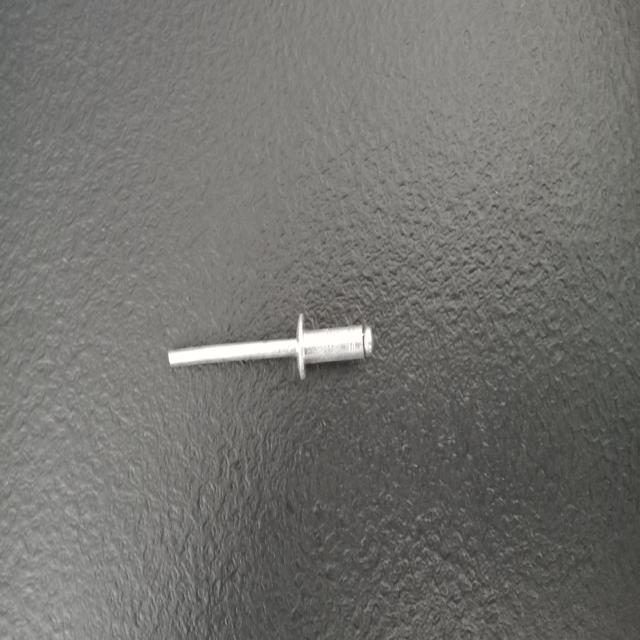rivet: (167, 310, 374, 381)
